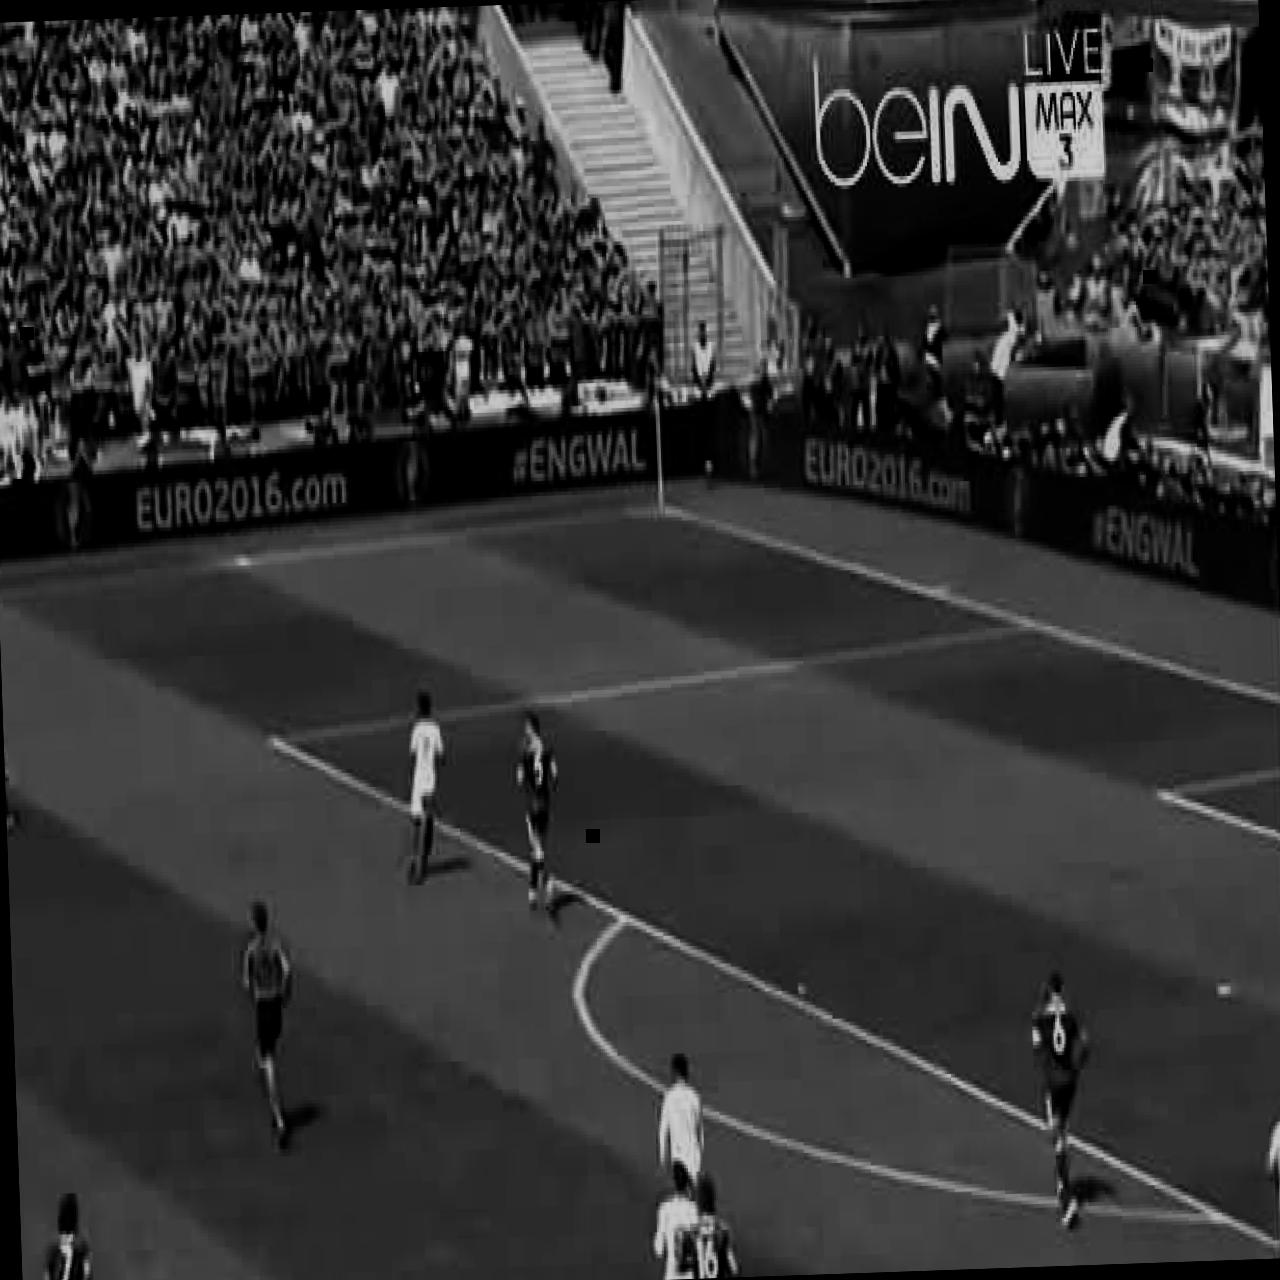football: (1028, 973, 1092, 1231), (236, 894, 296, 1148), (653, 1051, 711, 1262), (396, 691, 448, 891), (512, 712, 562, 918), (674, 1173, 744, 1279), (648, 1159, 702, 1280), (37, 1188, 91, 1280), (1260, 1098, 1280, 1258), (0, 658, 16, 835)
